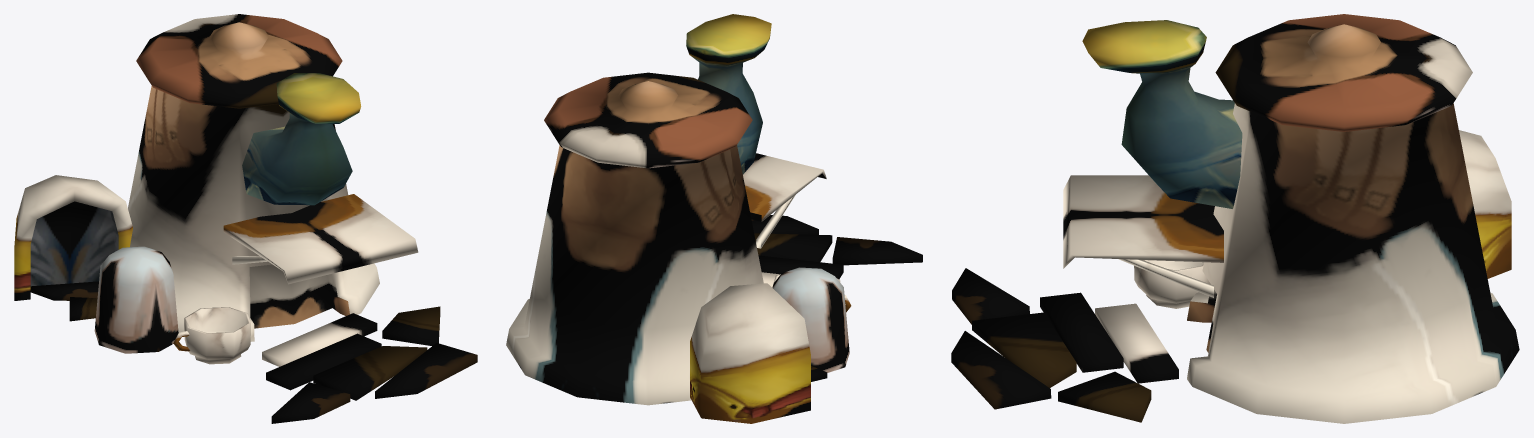
3 renders of one model, left to right at view 1: azimuth 30°, elevation 25°; view 2: azimuth 150°, elevation 25°; view 3: azimuth 270°, elevation 25°, orthographic. The views are drawn at different scales.
Visible parts, largest first — view 1: 830003_3; view 2: 830003_3; view 3: 830003_3.
Boxes of the visible parts, x1,y1,x2,y2 form: 830003_3: [14, 14, 477, 423]; 830003_3: [506, 14, 922, 423]; 830003_3: [951, 14, 1519, 423].
Size of the model in its own units: 482 by 383 by 604.
